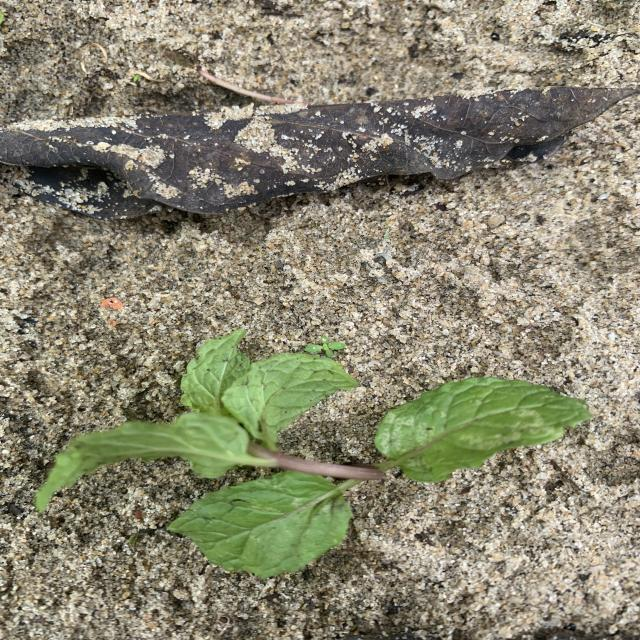crop: (35, 330, 590, 577)
weed: (305, 336, 345, 357)
